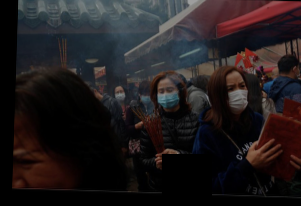with_mask: (226, 80, 250, 115), (156, 85, 180, 111), (113, 87, 127, 103), (140, 93, 153, 106)
